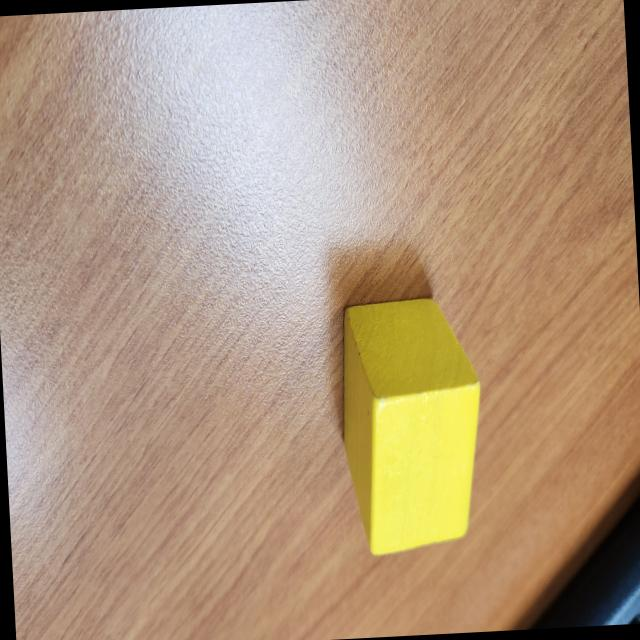yellow: (328, 294, 489, 558)
